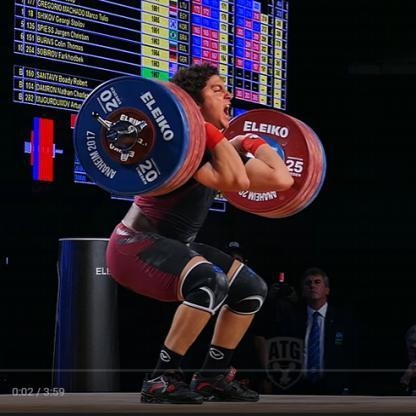barbell: (74, 79, 326, 221)
